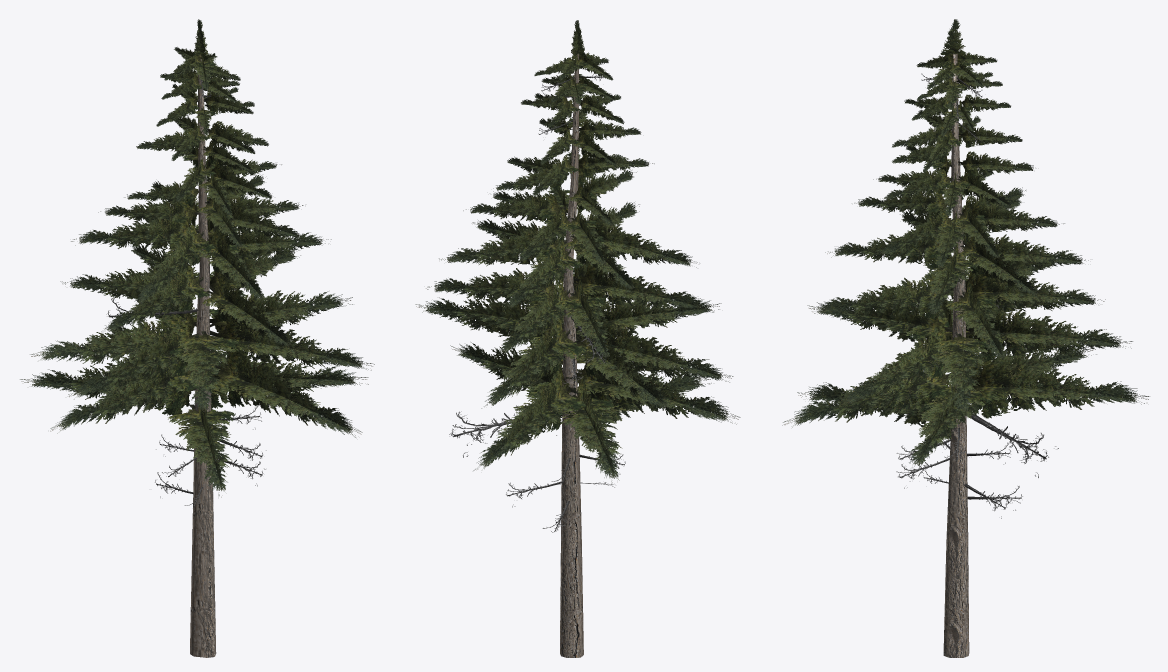
File: Conifer04_Tall.DAE
The picture shows the model from 3 angles, left to right: view 1: azimuth 30°, elevation 25°; view 2: azimuth 150°, elevation 25°; view 3: azimuth 270°, elevation 25°; orthographic projection.
Visible parts, largest first — view 1: ConiferFour256, ConiferFour128; view 2: ConiferFour256, ConiferFour128; view 3: ConiferFour256, ConiferFour128.
Part boxes in pixels (box(x1,y1,x2,y2)): ConiferFour256: box(20, 19, 372, 657); ConiferFour128: box(21, 19, 374, 650); ConiferFour256: box(416, 20, 740, 657); ConiferFour128: box(418, 20, 738, 657); ConiferFour256: box(784, 19, 1148, 657); ConiferFour128: box(783, 19, 1148, 657).
Size of what is drawn, in the model's own units: 17.83 by 18.33 by 34.1.
